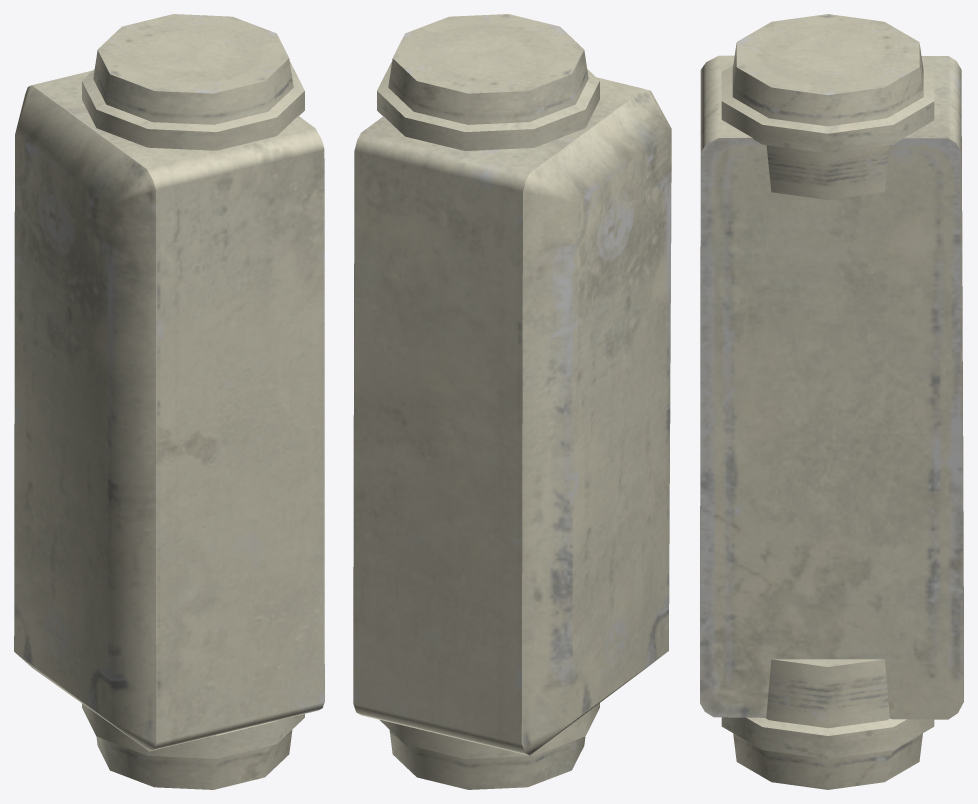
The model's file is SM_Wall_Electrical_Wire_Casing_02b.fbx.
3 renders of one model, left to right at view 1: azimuth 30°, elevation 25°; view 2: azimuth 150°, elevation 25°; view 3: azimuth 270°, elevation 25°, orthographic.
Visible parts, largest first — view 1: SM_Wall_Electrical_Wire_Casing_02b_LOD0; view 2: SM_Wall_Electrical_Wire_Casing_02b_LOD0; view 3: SM_Wall_Electrical_Wire_Casing_02b_LOD0.
Part boxes in pixels (box(x1,y1,x2,y2)): SM_Wall_Electrical_Wire_Casing_02b_LOD0: box(14, 14, 324, 789); SM_Wall_Electrical_Wire_Casing_02b_LOD0: box(353, 14, 671, 789); SM_Wall_Electrical_Wire_Casing_02b_LOD0: box(700, 14, 963, 789).
Size of the model in its own units: 2.94 by 2.94 by 8.54.
1 material, 1 textured.
